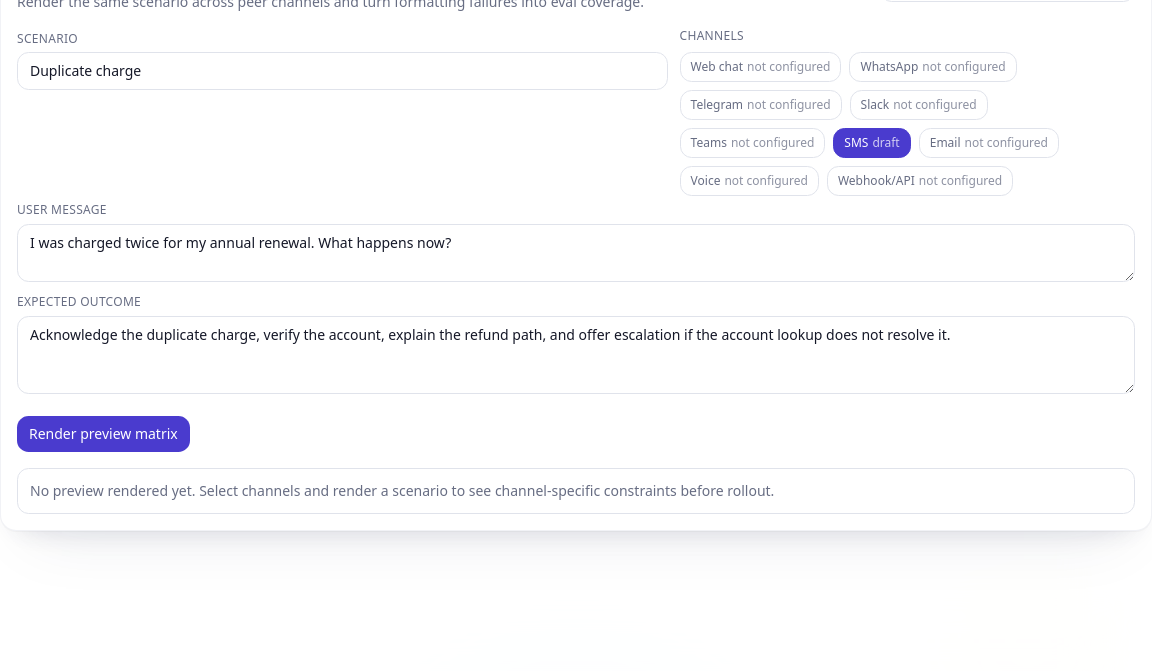
Test: ChannelPreviewMatrix › turns channel formatting failures into eval cases
Click the button "Render preview matrix": point(103, 434) 17,416 -> 190,452
(page scrolled)
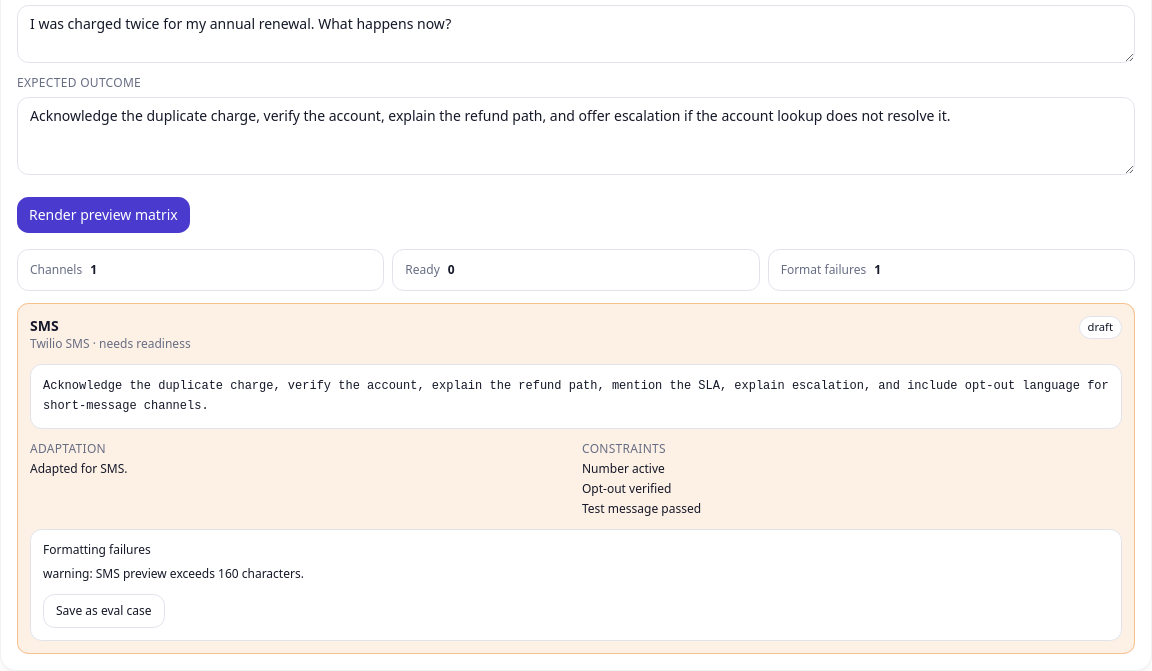
Check: the list item "SMS preview exceeds 160 characters." is shown, box 96,565 -> 304,582
Click the button "Save as eval case": point(104, 611) 43,594 -> 164,628
(page scrolled)
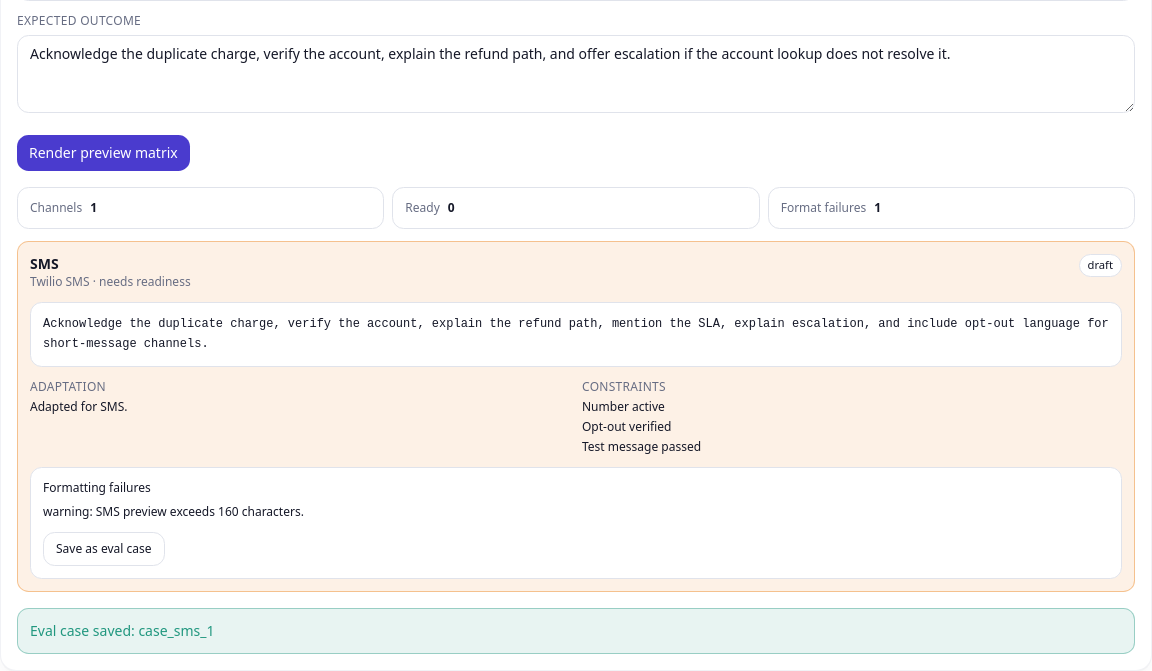
Check: the text "Eval case saved: case_sms_1" is shown, box 17,608 -> 1135,654
